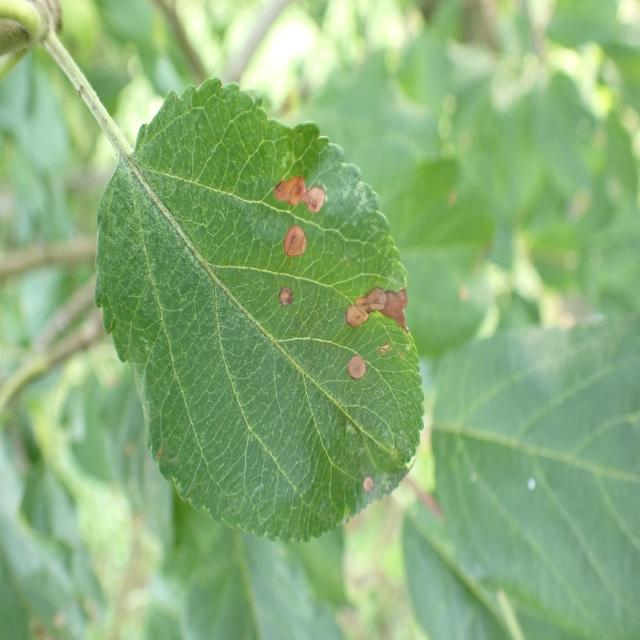Black Rot: (335, 258, 427, 352), (268, 142, 335, 218), (277, 218, 326, 271), (261, 273, 310, 315), (343, 348, 382, 399), (359, 465, 375, 500)
